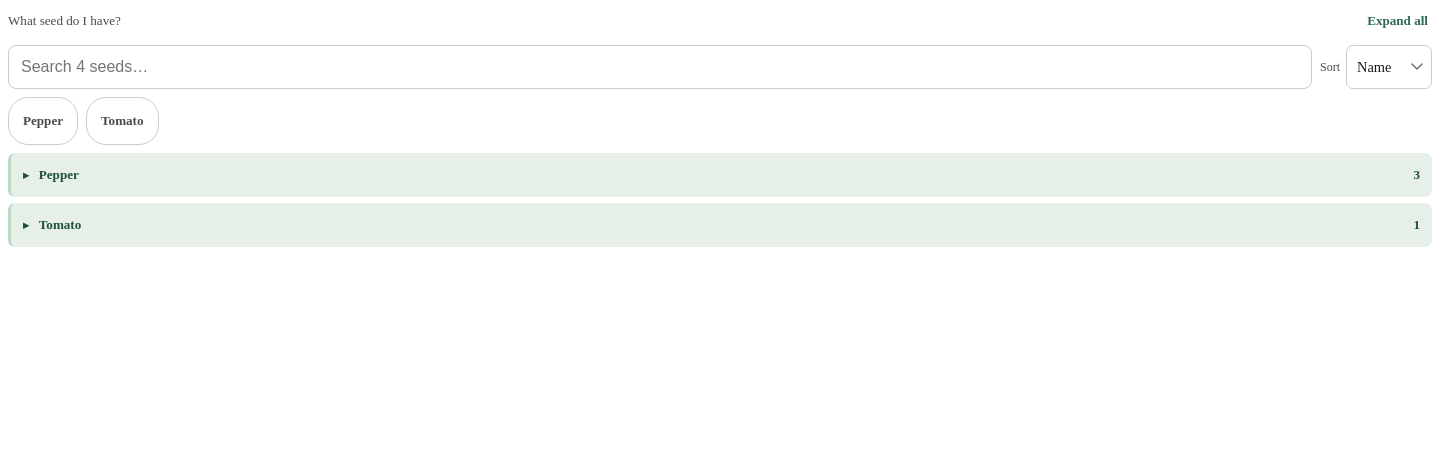
Scenario: My seeds — folding a group from its stuck header (unchanged) › re-anchors the header at the top bar, instantly
Check: the element showing "▸ Tomato 1" is shown, box [8,203,1432,247]
Click the button with test id "facet-group-header" showing "▸ Pepper 3" at (59, 174), box [8,153,1432,197]
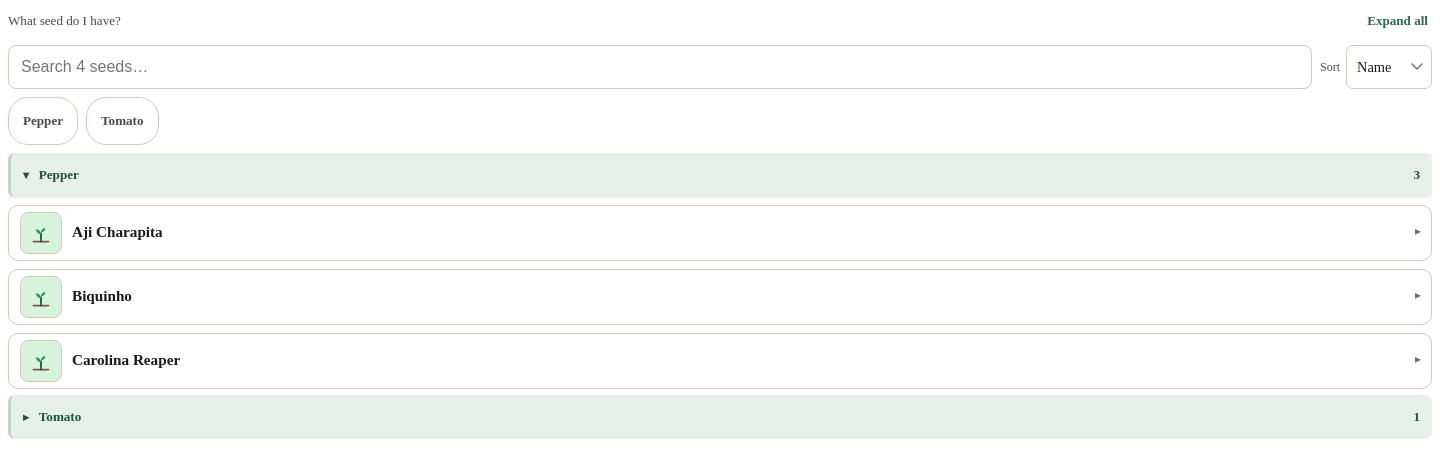
Click the button with test id "facet-group-header" showing "▾ Pepper 3" at (59, 174), box [8,153,1432,197]
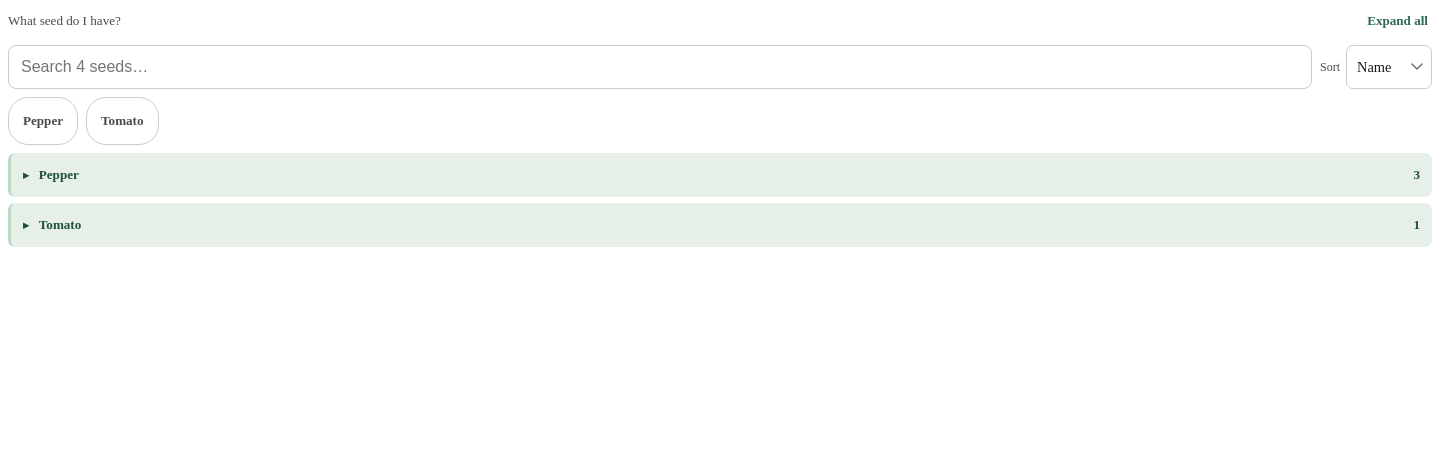
Check: the button with test id "facet-group-header" is collapsed, box [8,153,1432,197]
